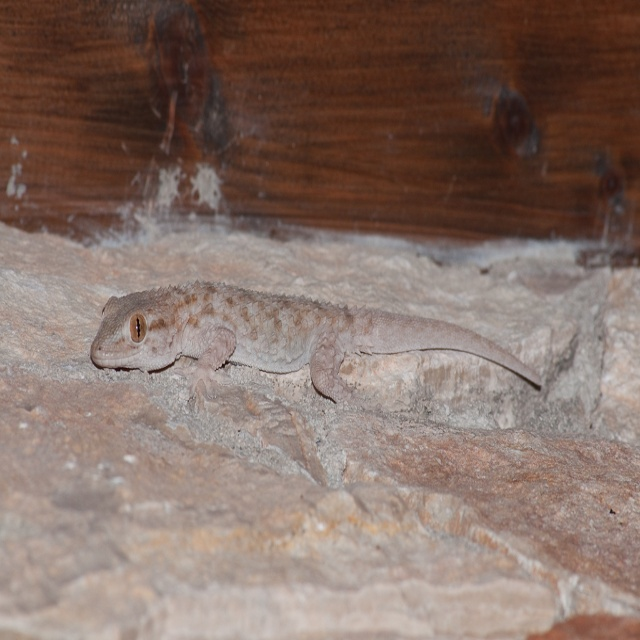Lizard: (85, 263, 565, 490)
